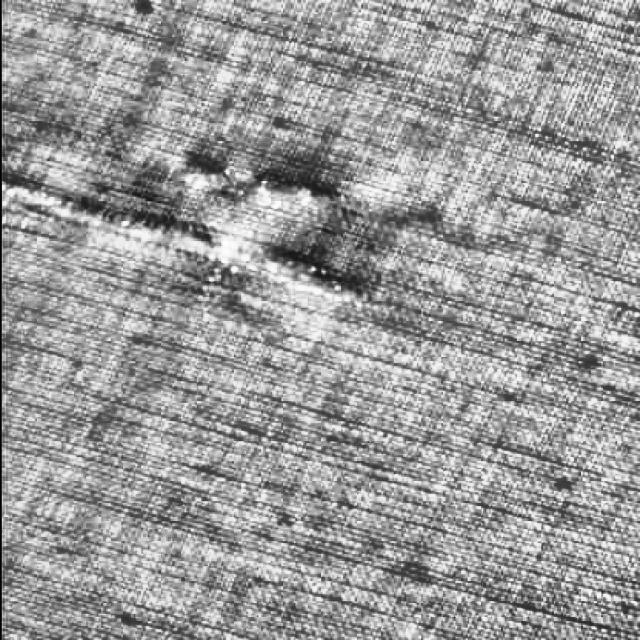thread_error: (0, 174, 368, 317), (161, 145, 358, 208)
